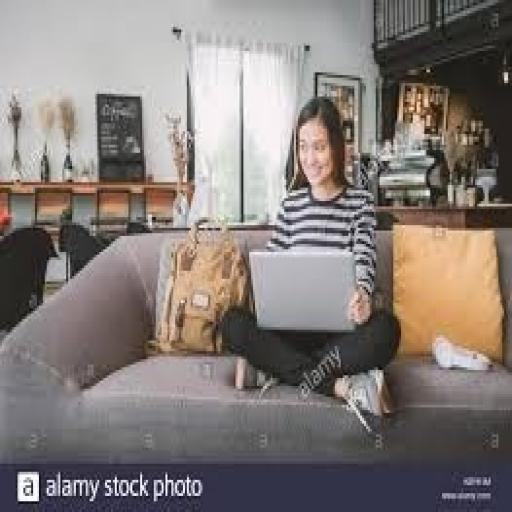using_laptop: (247, 246, 358, 332)
